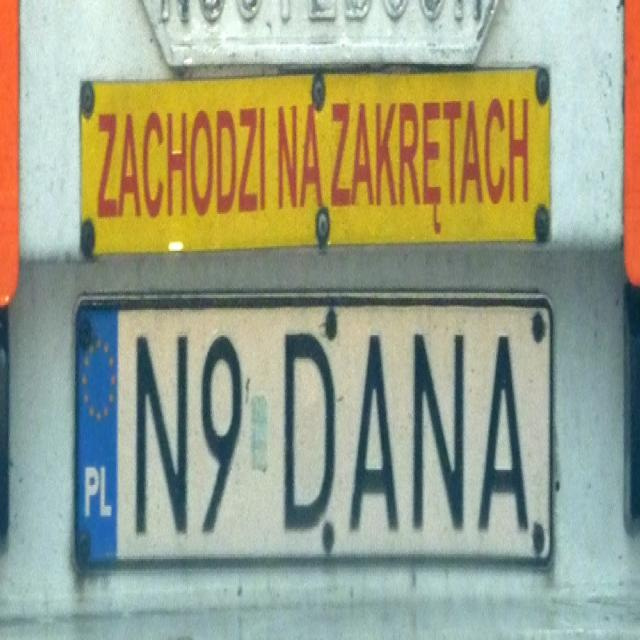pl_license_plate: (76, 298, 552, 561)
